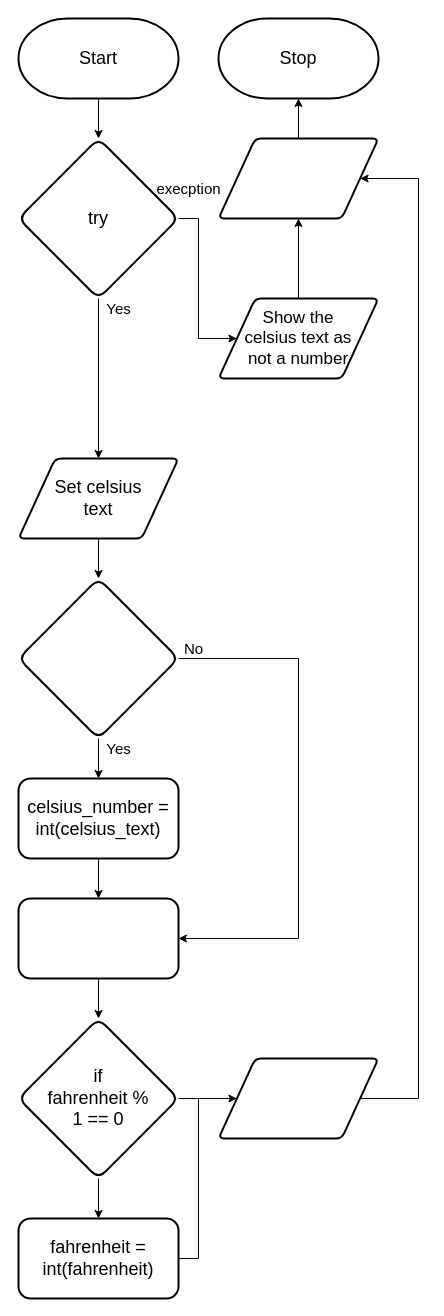
Some shapes in this 444 by 1316 pixel diagram are drawn without their labels. Each missing label, with the centre of its shape:
fahrenheit = celsius_number * (9 / 5) + 32: pixel 98 938
if celsius_number % 1 == 0: pixel 98 658
Show the fahrenheit: pixel 298 1098
Show the program as done: pixel 298 178
